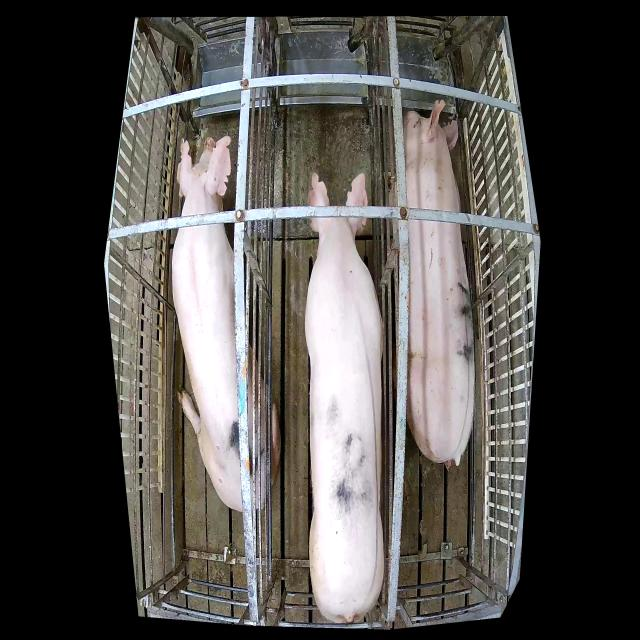pig: (172, 135, 279, 512), (305, 172, 384, 623), (402, 100, 475, 468)
